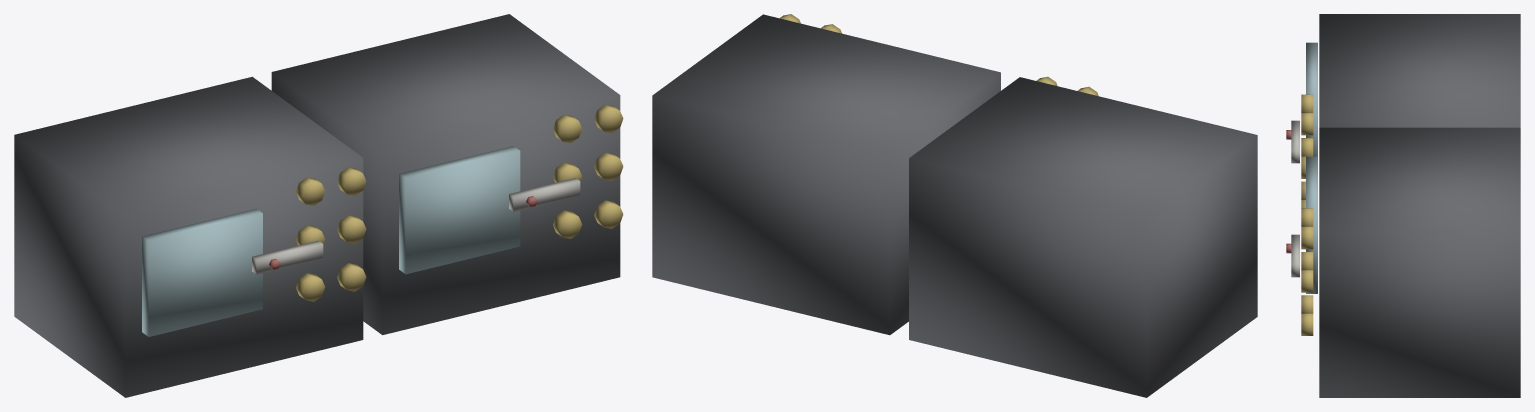
Rendered from oscilloscope__cluster.glb.
The picture shows the model from 3 angles, left to right: view 1: azimuth 30°, elevation 25°; view 2: azimuth 150°, elevation 25°; view 3: azimuth 270°, elevation 25°; orthographic projection. The views are drawn at different scales.
Parts seen in each view (by area): view 1: world; view 2: world; view 3: world.
Part boxes in pixels (x1,y1,x2,y2): world: (14, 14, 623, 397); world: (652, 14, 1257, 397); world: (1286, 14, 1520, 397).
Size of the model in its own units: 1.08 by 0.38 by 0.4885.
